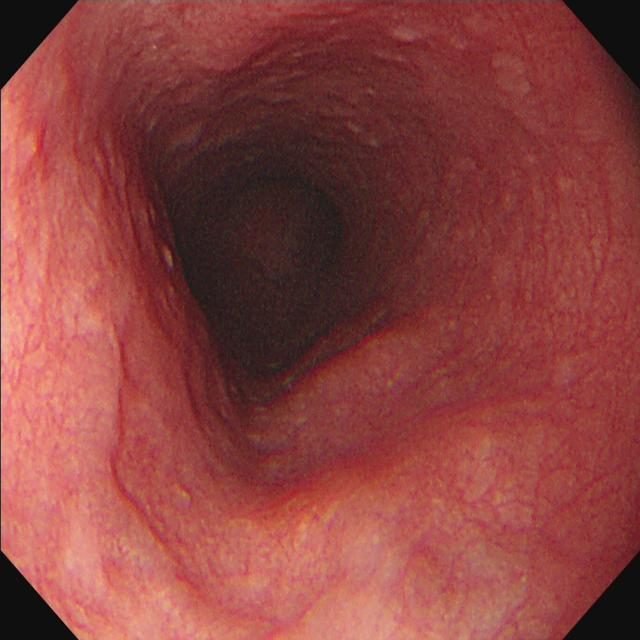E: (186, 164, 351, 394)
